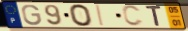9: (44, 4, 64, 27)
C: (121, 4, 145, 27)
G: (21, 4, 43, 27)
I: (95, 4, 106, 27)
O: (68, 3, 95, 28)
T: (144, 5, 163, 27)
